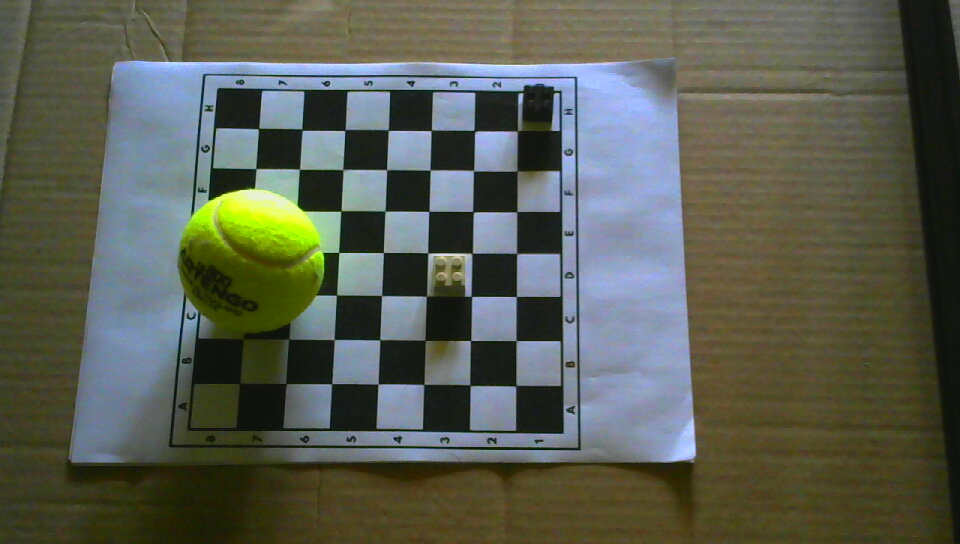bp: (520, 84, 555, 125)
wp: (431, 254, 468, 294)
